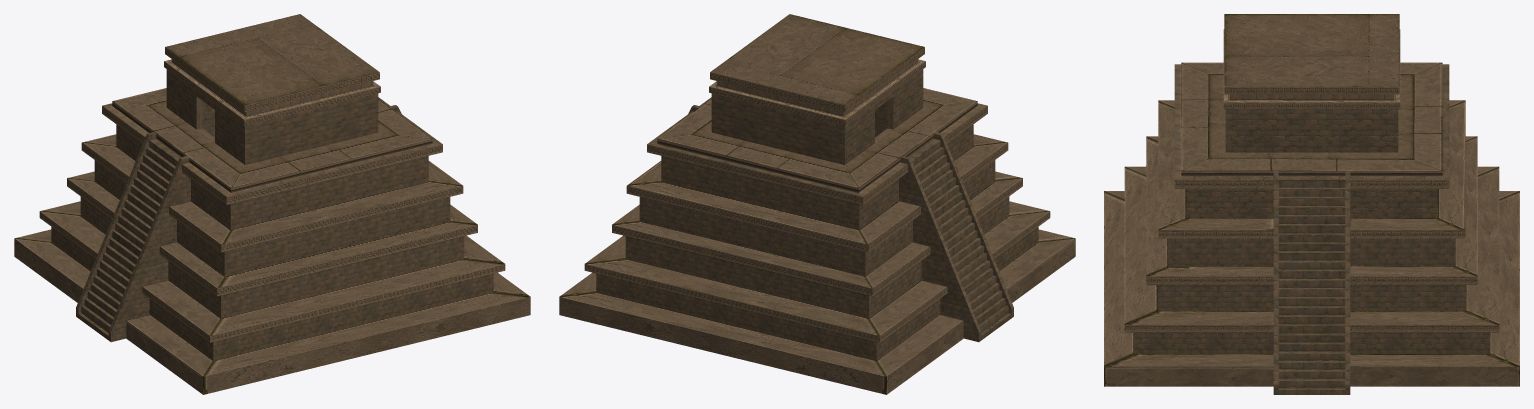
File: temple_uvmapped_merged.fbx
3 renders of one model, left to right at view 1: azimuth 30°, elevation 25°; view 2: azimuth 150°, elevation 25°; view 3: azimuth 270°, elevation 25°, orthographic. The views are drawn at different scales.
Parts seen in each view (by area): view 1: outertop.001; view 2: outertop.001; view 3: outertop.001.
Part boxes in pixels (x1,y1,x2,y2): outertop.001: (14,14,530,394); outertop.001: (559,14,1075,394); outertop.001: (1104,14,1519,394).
Bounding box in the file's own units: 413 × 250 × 378.
3 materials, 3 textured.
